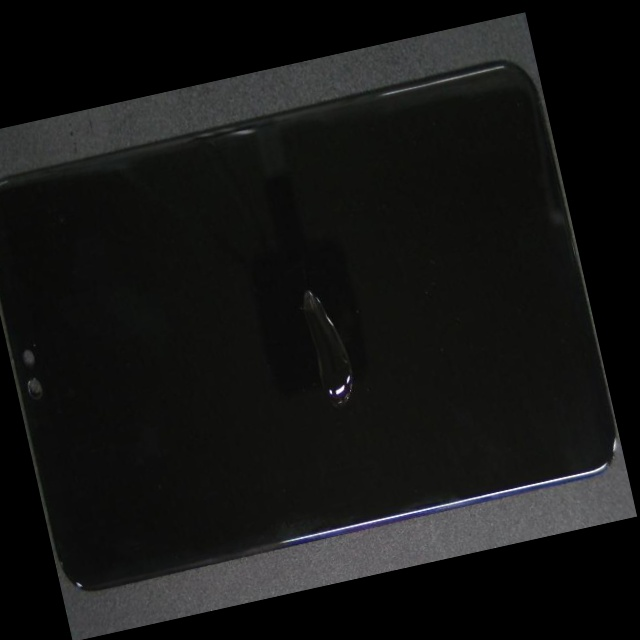oil: (171, 207, 544, 535)
